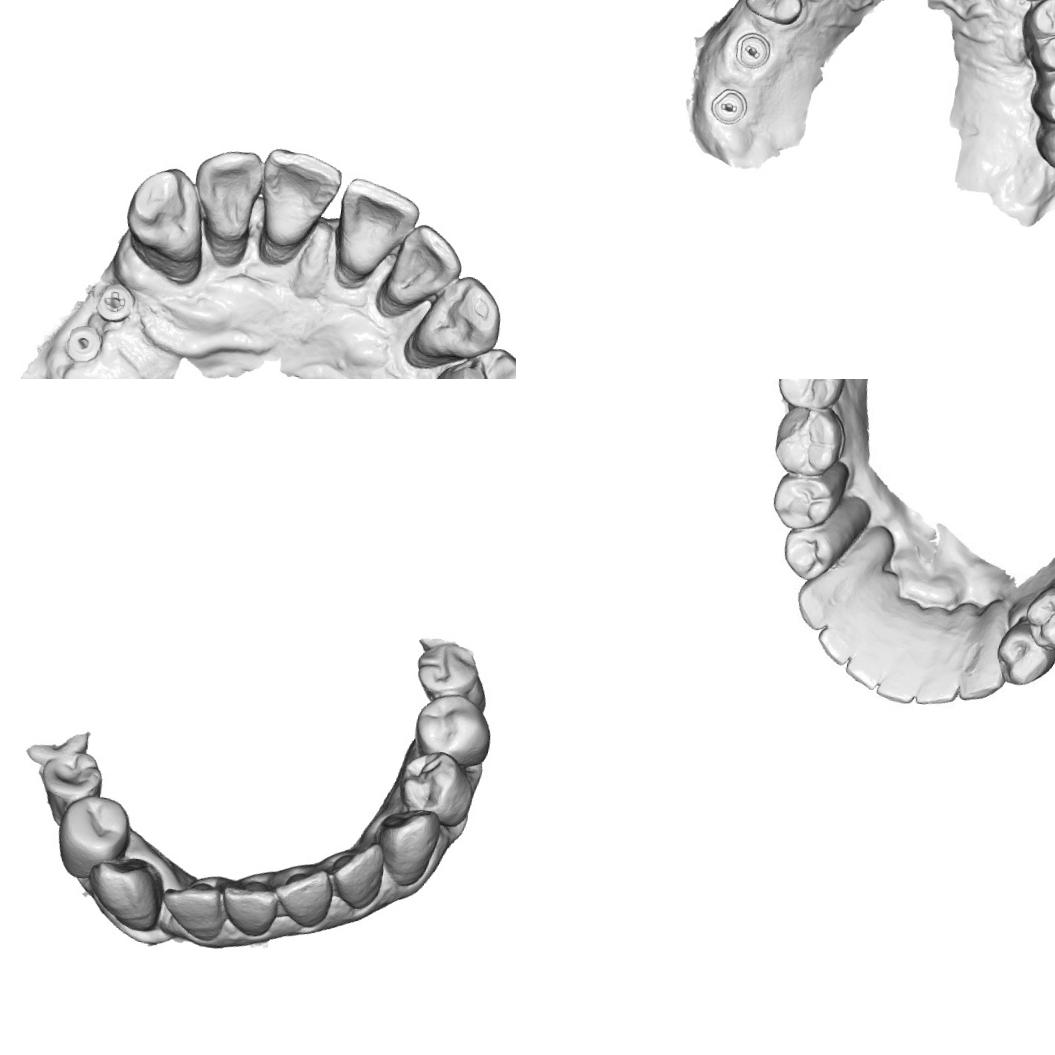canine: (122, 162, 212, 263), (419, 268, 507, 366), (82, 851, 168, 938), (370, 805, 442, 890), (959, 600, 1015, 704), (793, 566, 852, 636)
implant: (60, 321, 110, 375)
implant_minus: (707, 85, 751, 130), (732, 28, 776, 72)
implant_plus: (92, 278, 134, 329)
incisor: (330, 173, 423, 278), (253, 144, 344, 249), (378, 216, 467, 310), (186, 145, 265, 243), (325, 840, 390, 916), (156, 878, 229, 945), (272, 863, 337, 934), (216, 876, 284, 943), (848, 630, 898, 688), (819, 610, 868, 665), (875, 658, 920, 704), (919, 660, 962, 708)
molar: (774, 404, 844, 475), (410, 635, 484, 701), (1025, 59, 1055, 130), (777, 379, 843, 409), (1031, 110, 1055, 177)
premolar: (52, 791, 136, 884), (410, 690, 494, 766), (396, 747, 476, 826), (37, 748, 107, 818), (775, 466, 838, 530), (997, 620, 1055, 686), (432, 338, 516, 379), (784, 523, 840, 579), (740, 0, 808, 28), (1030, 591, 1055, 653), (1019, 0, 1055, 43), (1033, 25, 1055, 78)
